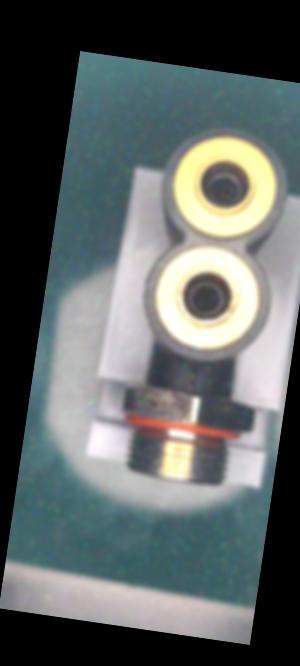craze: (182, 358, 202, 395)
